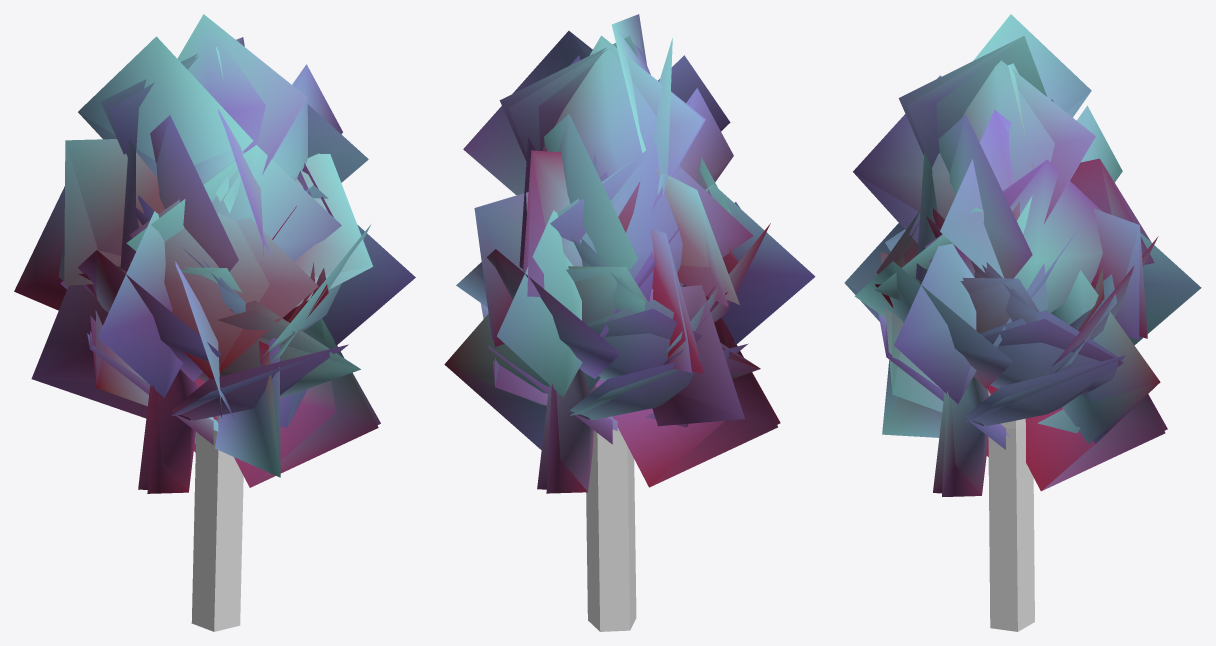
File: oak_b.dae
3 renders of one model, left to right at view 1: azimuth 30°, elevation 25°; view 2: azimuth 150°, elevation 25°; view 3: azimuth 270°, elevation 25°, orthographic. The views are drawn at different scales.
Parts seen in each view (by area): view 1: oak_b_a700, oak_b_a350, Colmesh-1; view 2: oak_b_a700, oak_b_a350, Colmesh-1; view 3: oak_b_a700, oak_b_a350, Colmesh-1.
Part boxes in pixels (box(x1,y1,x2,y2)): oak_b_a700: box(31, 14, 378, 492); oak_b_a350: box(14, 14, 415, 493); Colmesh-1: box(191, 415, 243, 631); oak_b_a700: box(444, 25, 777, 491); oak_b_a350: box(445, 14, 815, 493); Colmesh-1: box(586, 386, 636, 631); oak_b_a700: box(844, 14, 1165, 495); oak_b_a350: box(845, 36, 1201, 496); Colmesh-1: box(988, 390, 1034, 631).
Bounding box in the file's own units: 4.26 × 4.55 × 8.2.
